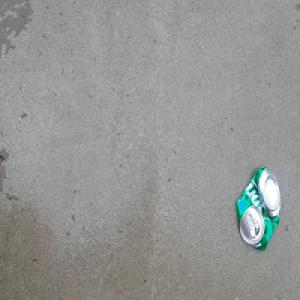SodaCan: (234, 164, 282, 252)
